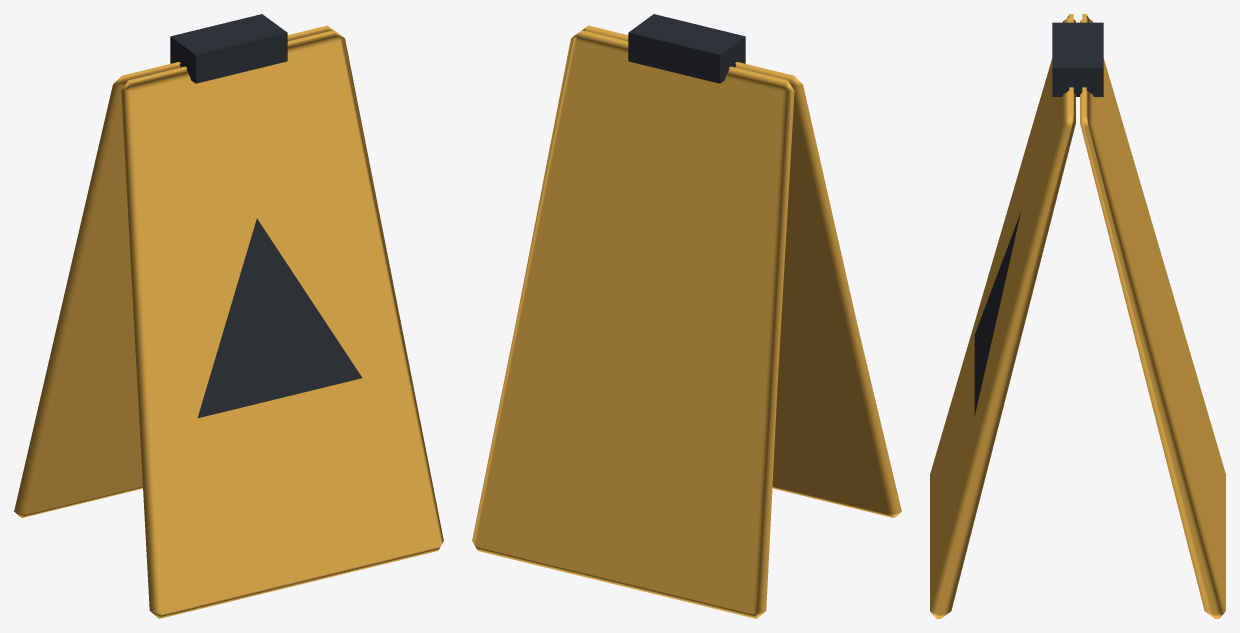
The model's file is CM_Interior_WetFloorSign.fbx.
3 views of the same model, side by side, from view 1: azimuth 30°, elevation 25°; view 2: azimuth 150°, elevation 25°; view 3: azimuth 270°, elevation 25° (orthographic).
Visible parts, largest first — view 1: Body; view 2: Body; view 3: Body.
Part boxes in pixels (box(x1,y1,x2,y2)): Body: box(14, 14, 443, 618); Body: box(472, 14, 901, 618); Body: box(930, 14, 1225, 618).
Size of the model in its own units: 1.59 by 1.38 by 2.6.
1 material, 1 textured.
